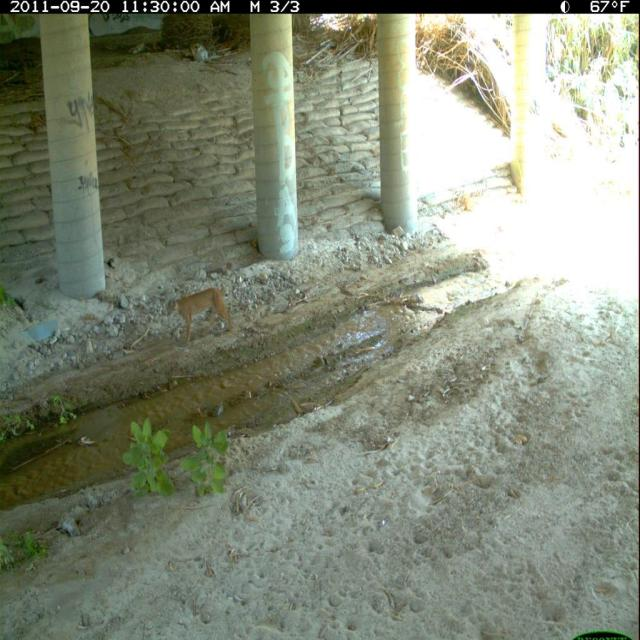bobcat: (164, 282, 237, 349)
